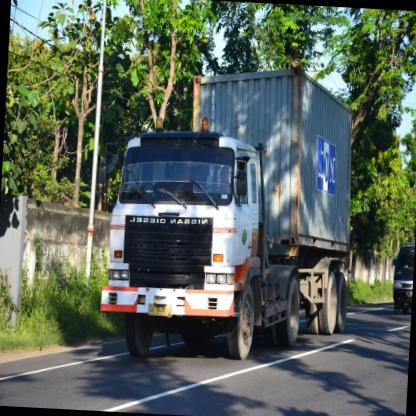truck: (97, 125, 265, 367)
